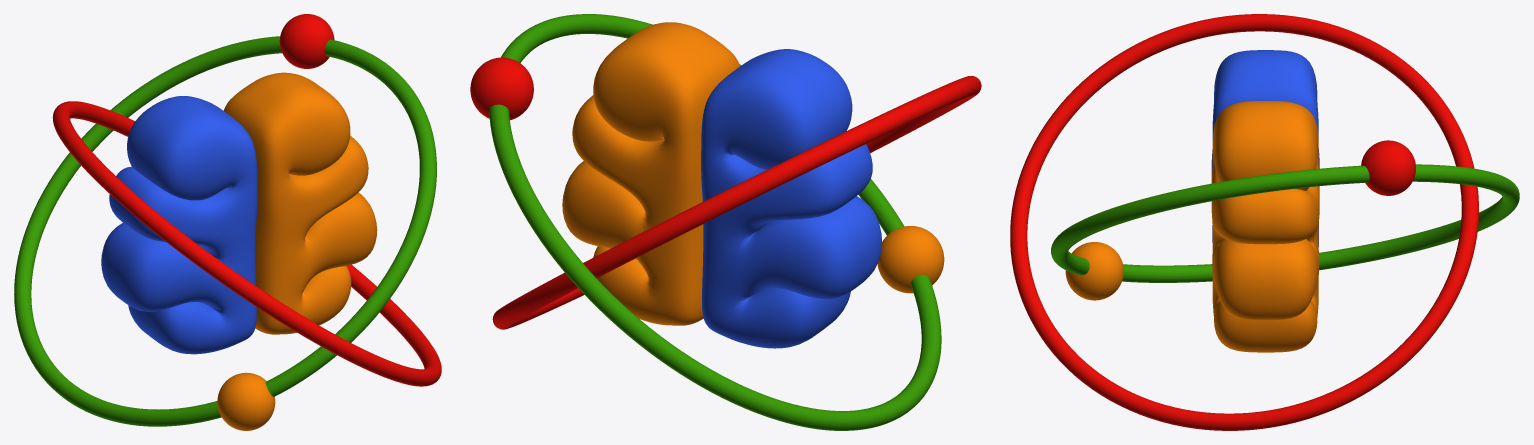
3 renders of one model, left to right at view 1: azimuth 30°, elevation 25°; view 2: azimuth 150°, elevation 25°; view 3: azimuth 270°, elevation 25°, orthographic. The views are drawn at different scales.
Parts seen in each view (by area): view 1: Cube.084, Cube.085, Circle.003, Circle.004, Sphere.002, Sphere.001; view 2: Cube.084, Cube.085, Circle.003, Circle.004, Sphere.002, Sphere.001; view 3: Cube.085, Circle.004, Circle.003, Cube.084, Sphere.002, Sphere.001.
Boxes of the visible parts, x1=… form: Cube.084: x1=101, y1=96, x2=257, y2=354; Cube.085: x1=223, y1=72, x2=377, y2=334; Circle.003: x1=14, y1=36, x2=436, y2=426; Circle.004: x1=52, y1=101, x2=441, y2=386; Sphere.002: x1=217, y1=372, x2=275, y2=430; Sphere.001: x1=279, y1=14, x2=334, y2=68; Cube.084: x1=701, y1=49, x2=881, y2=348; Cube.085: x1=562, y1=22, x2=739, y2=325; Circle.003: x1=489, y1=14, x2=941, y2=430; Circle.004: x1=492, y1=76, x2=981, y2=329; Sphere.002: x1=877, y1=226, x2=944, y2=293; Sphere.001: x1=470, y1=57, x2=533, y2=120; Cube.085: x1=1211, y1=101, x2=1319, y2=352; Circle.004: x1=1010, y1=14, x2=1478, y2=430; Circle.003: x1=1051, y1=164, x2=1519, y2=282; Cube.084: x1=1211, y1=50, x2=1319, y2=246; Sphere.002: x1=1065, y1=242, x2=1123, y2=300; Sphere.001: x1=1361, y1=140, x2=1415, y2=195.
Bounding box in the file's own units: 2.59 × 2.03 × 3.39.
